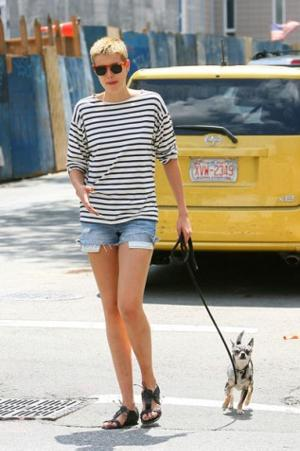person: (66, 35, 194, 430)
